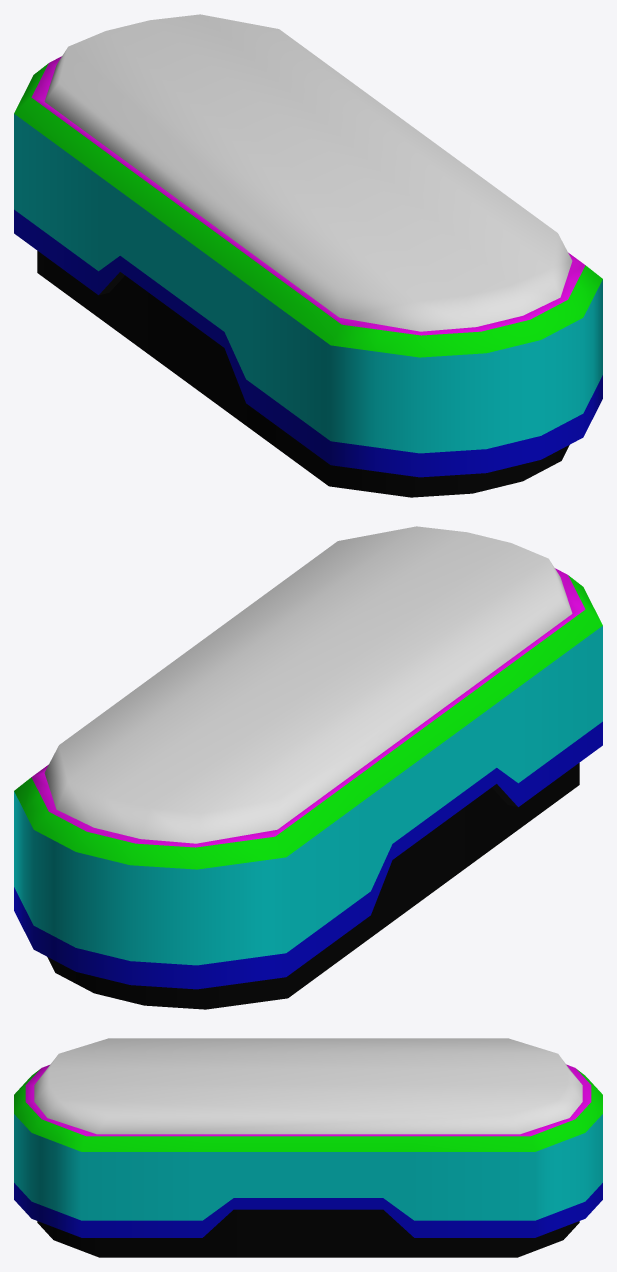
Rendered from SE_hydro_01.fbx.
The picture shows the model from 3 angles, top to bottom: view 1: azimuth 30°, elevation 25°; view 2: azimuth 150°, elevation 25°; view 3: azimuth 270°, elevation 25°; orthographic projection. The views are drawn at different scales.
Visible parts, largest first — view 1: SE_HydroBedMain, SE_HydroBedGlass; view 2: SE_HydroBedMain, SE_HydroBedGlass; view 3: SE_HydroBedMain, SE_HydroBedGlass.
Boxes of the visible parts, <box> form: SE_HydroBedMain: <box>14,56,602,497</box>; SE_HydroBedGlass: <box>44,14,572,331</box>; SE_HydroBedMain: <box>14,568,602,1009</box>; SE_HydroBedGlass: <box>44,526,572,843</box>; SE_HydroBedMain: <box>14,1064,602,1257</box>; SE_HydroBedGlass: <box>34,1038,582,1134</box>.
Size of the model in its own units: 174 by 116 by 454.
